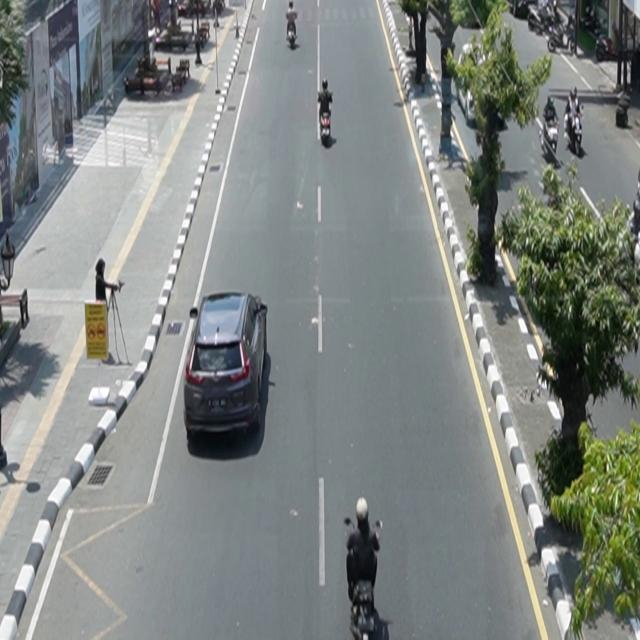car: (184, 292, 269, 440)
